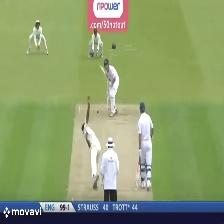ball: (95, 106, 101, 115)
batsman: (98, 58, 121, 116)
